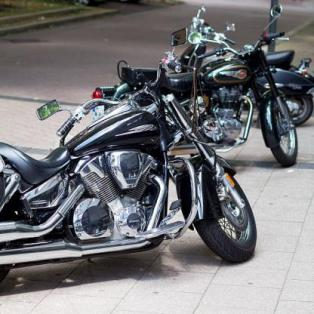Motocicleta: (0, 78, 263, 270)
